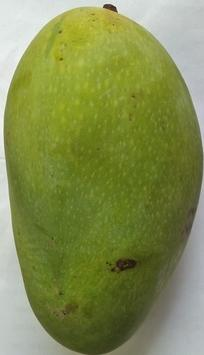Unripe: (0, 1, 204, 355)
